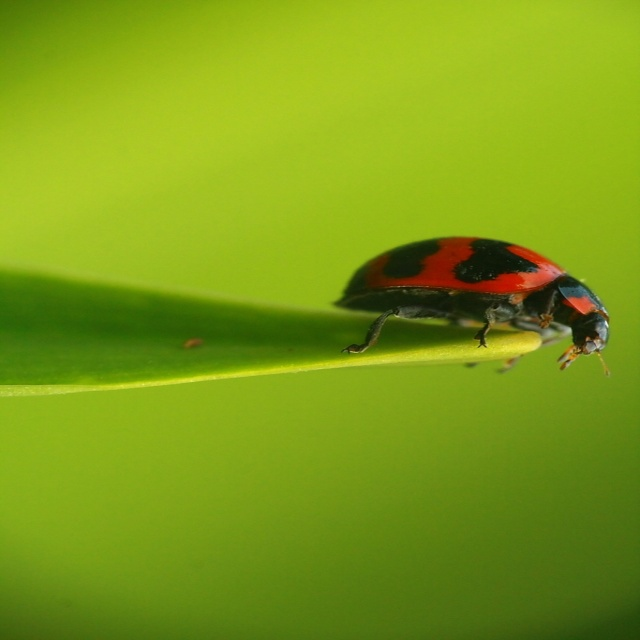Ladybug: (336, 238, 614, 377)
